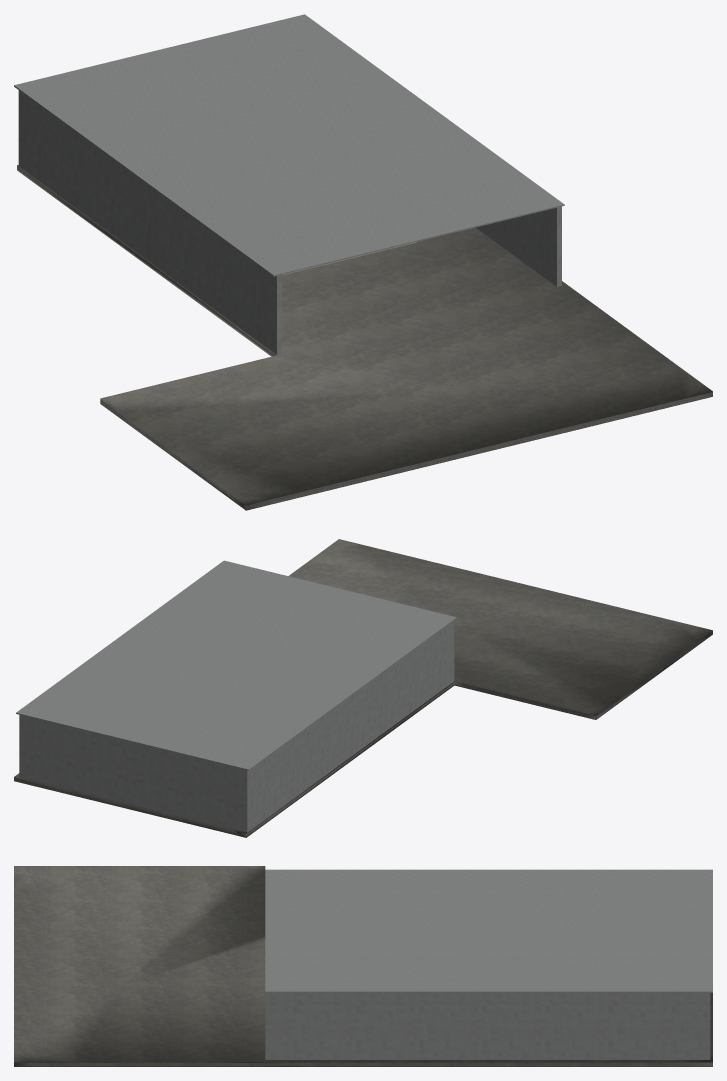
Rendered from building.glb.
3 views of the same model, one above another, from view 1: azimuth 30°, elevation 25°; view 2: azimuth 150°, elevation 25°; view 3: azimuth 270°, elevation 25° (orthographic). The views are drawn at different scales.
Visible parts, largest first — view 1: Slab001, Roof, Exterior_wall; view 2: Roof, Slab001, Exterior_wall; view 3: Roof, Slab001, Exterior_wall.
Boxes of the visible parts, bbox=[...] form: Slab001: bbox=[17, 165, 712, 510]; Roof: bbox=[14, 14, 564, 276]; Exterior_wall: bbox=[18, 90, 561, 355]; Roof: bbox=[16, 560, 456, 770]; Slab001: bbox=[14, 539, 712, 837]; Exterior_wall: bbox=[19, 620, 454, 832]; Roof: bbox=[265, 869, 712, 992]; Slab001: bbox=[14, 866, 712, 1066]; Exterior_wall: bbox=[265, 993, 710, 1059].
Size of the model in its own units: 18.47 by 3.25 by 27.8.
5 materials, 3 textured.
